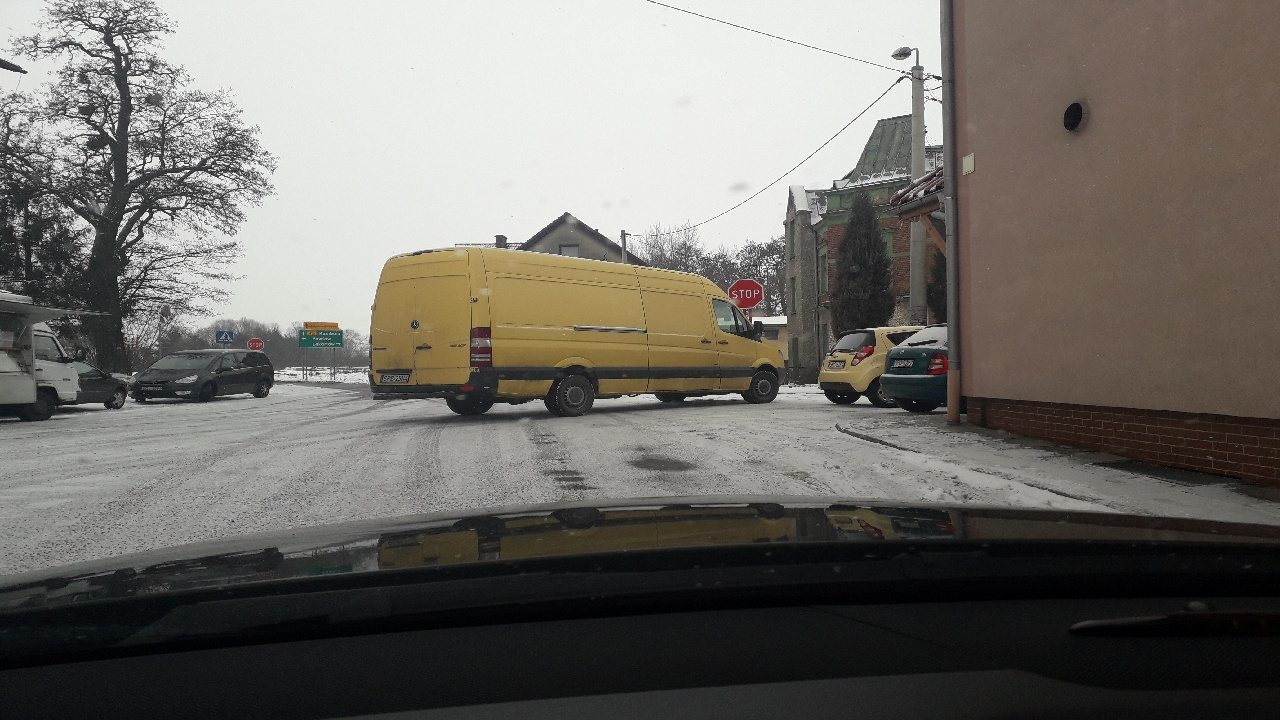B20: (726, 276, 766, 311)
